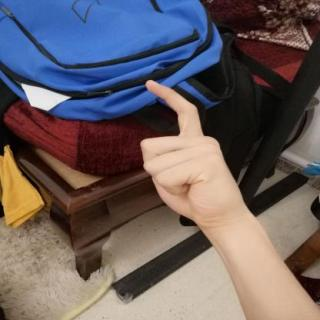RAA: (129, 69, 251, 231)
